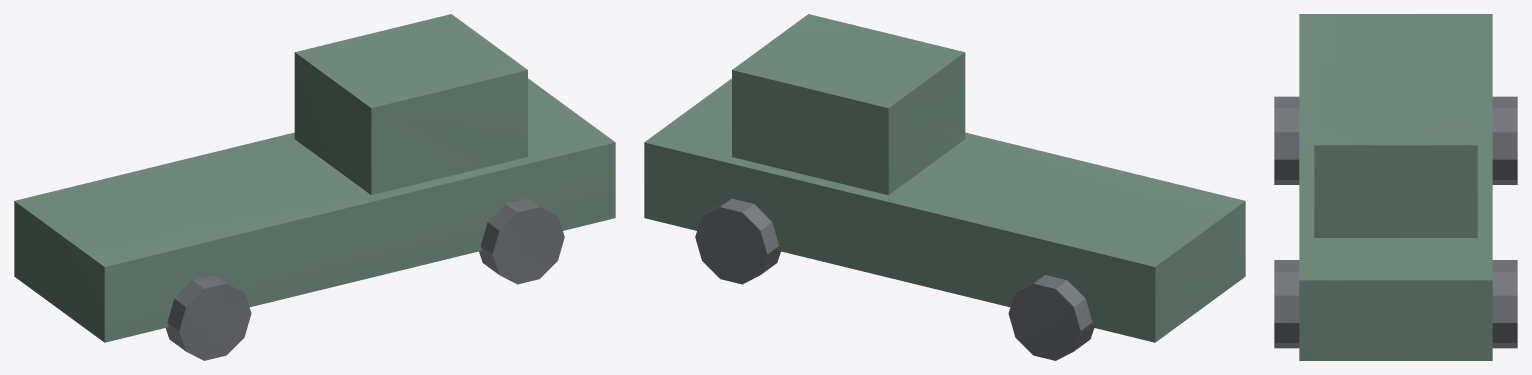
File: train-05.glb
The picture shows the model from 3 angles, left to right: view 1: azimuth 30°, elevation 25°; view 2: azimuth 150°, elevation 25°; view 3: azimuth 270°, elevation 25°; orthographic projection. The views are drawn at different scales.
Visible parts, largest first — view 1: world; view 2: world; view 3: world.
Part boxes in pixels (x1=…): world: x1=14, y1=14, x2=615, y2=360; world: x1=644, y1=14, x2=1245, y2=360; world: x1=1274, y1=14, x2=1517, y2=360.
Size of the model in its own units: 2.12 by 0.7677 by 0.82.
